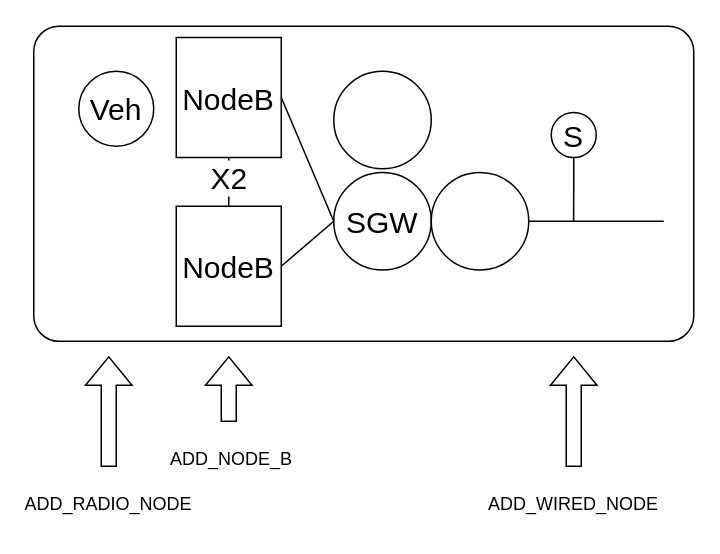
This 720x554 diagram has some shape labels left out. The shapes that lost their labels are listed below. From the top down, each one's centre as x and y in pixels, then its label:
At pixel 381 119: "MME".
At pixel 479 220: "PGW".
